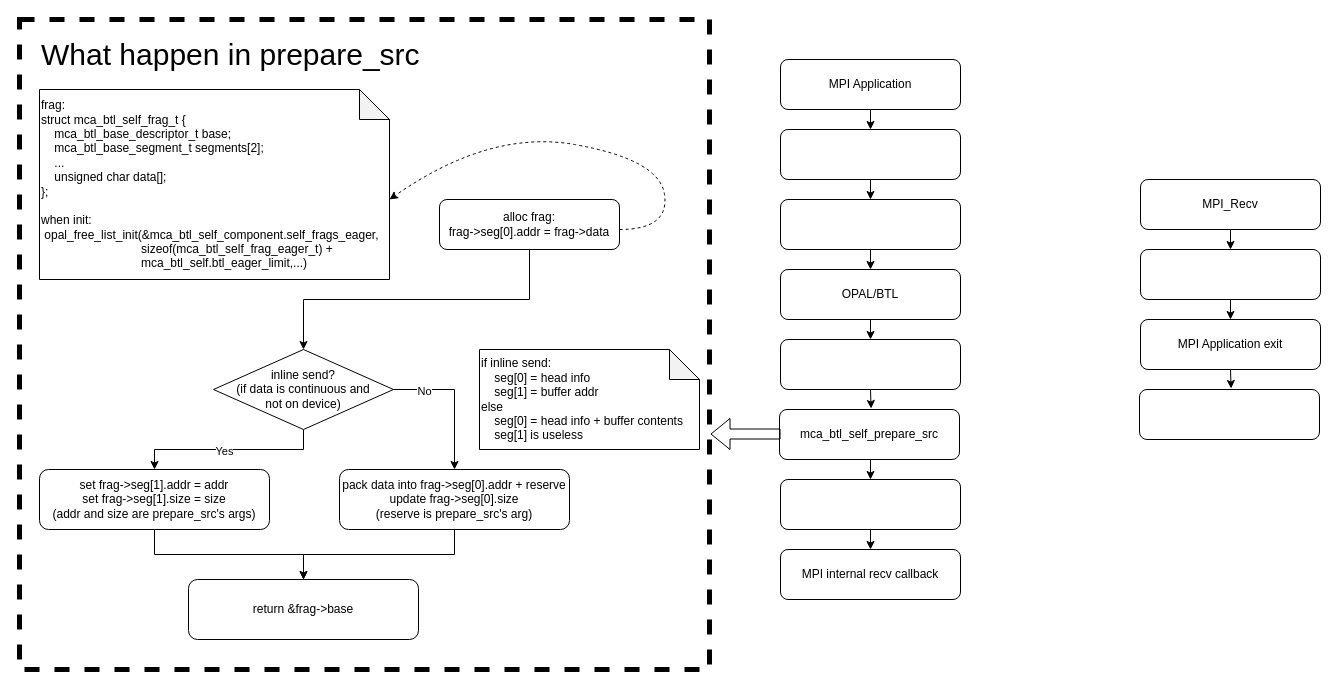
The diagram is 1338 pixels wide and 689 high, and some of its shapes have lost their labels. The shapes that lost their labels are listed below. From the top down, each one's centre as x and y in pixels, then its label:
[870,154]: MPI_Send
[870,224]: PML/ob1
[1230,274]: Get data from MPI framework
[870,364]: BTL/self
[1229,414]: Component close
[870,504]: mca_btl_self_send
